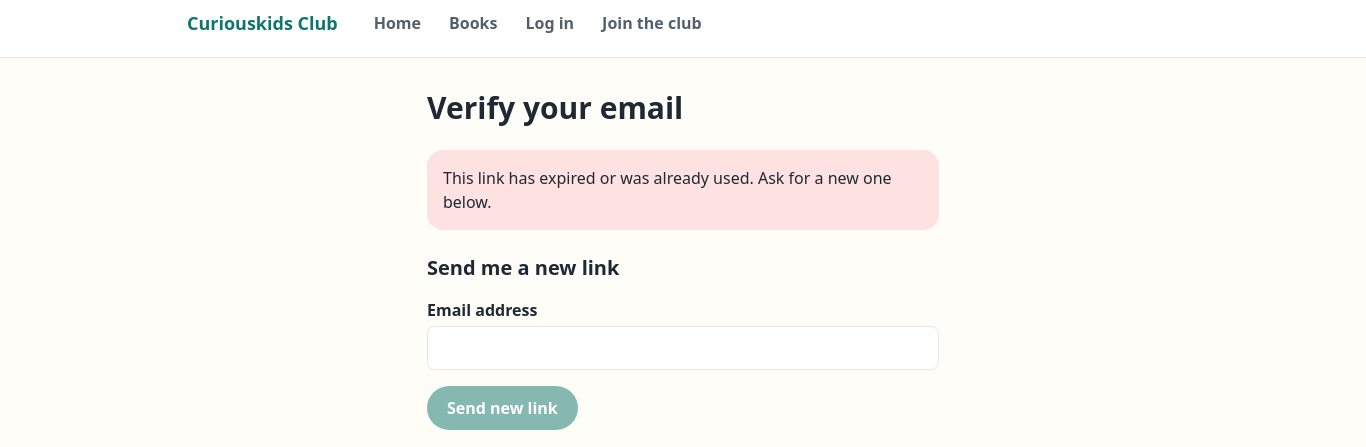
Verify email page › FR-ID-02: an expired or used link offers a new one
The width and height of the screenshot is (1366, 447).
Expected: the message shows "This link has expired", x1=443 y1=167 x2=892 y2=213
In the field labelled "Email address": (683, 348) x1=427 y1=326 x2=939 y2=370, type "sam@example.com"
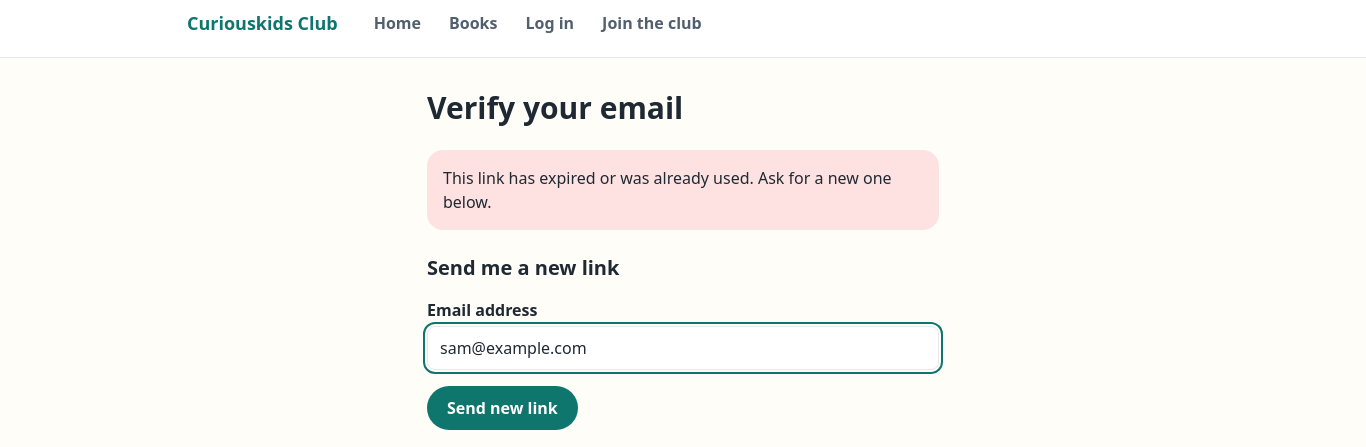
Click the button "Send new link": click(502, 408) x1=427 y1=386 x2=578 y2=430
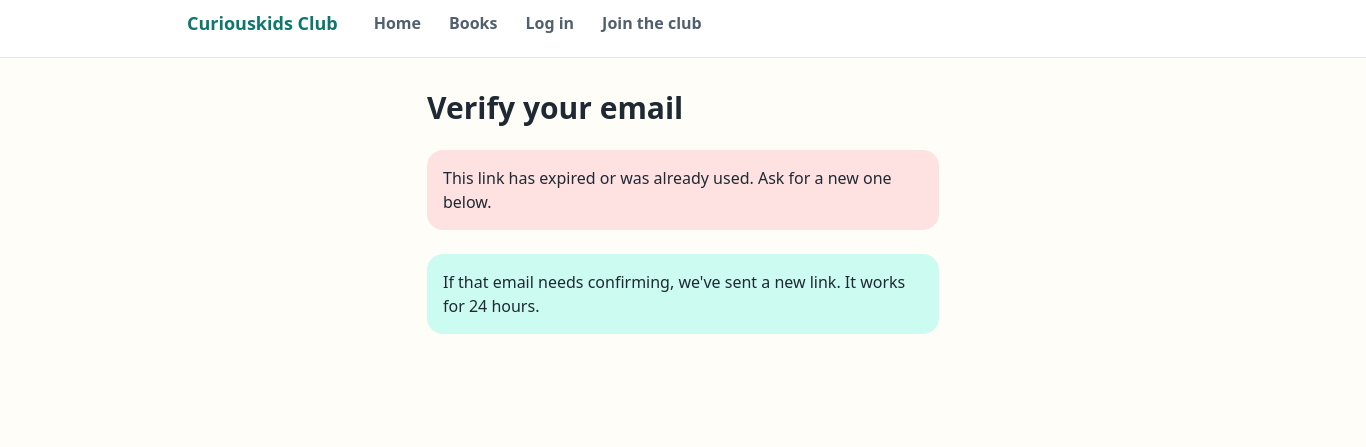
Expected: the message "If that email needs confirming, we've sent a new link. It works for 24 hours." is shown, x1=427 y1=254 x2=939 y2=334
